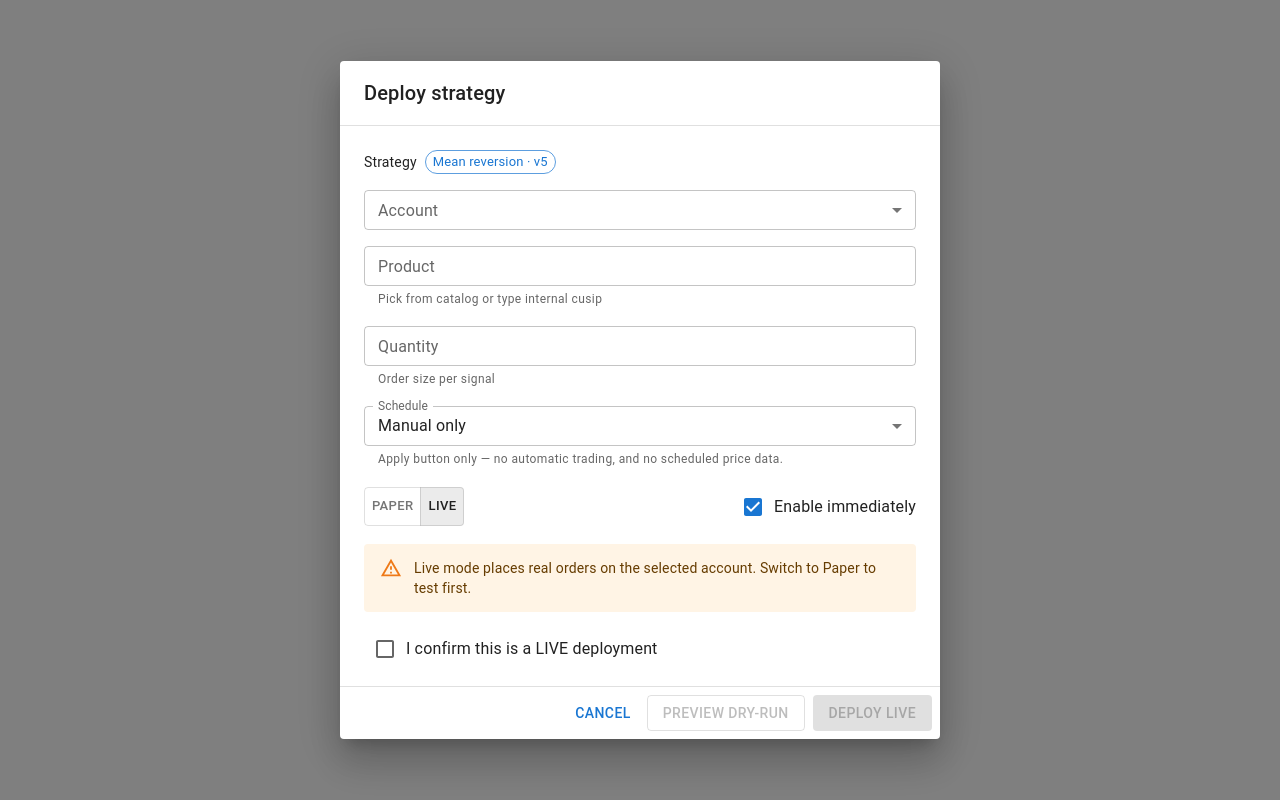
Test: DeploymentDialog schedule control › explains that a cadence also keeps price data up to date
Check: the text "no scheduled price data" is shown, box [378,452,783,466]
Click the dropdown named "Schedule" at (422, 426), box [378,416,466,435]
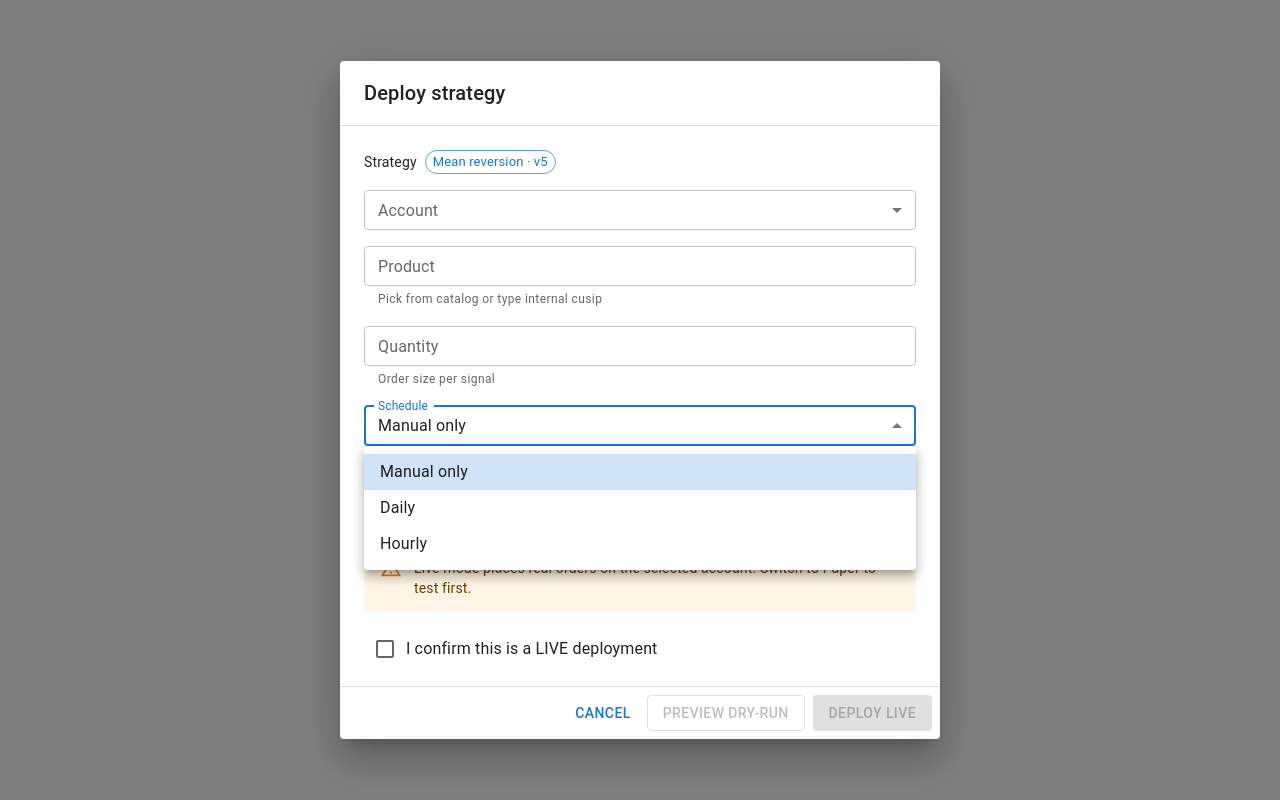
Click the option "Daily" at (398, 508), box [380,498,415,517]
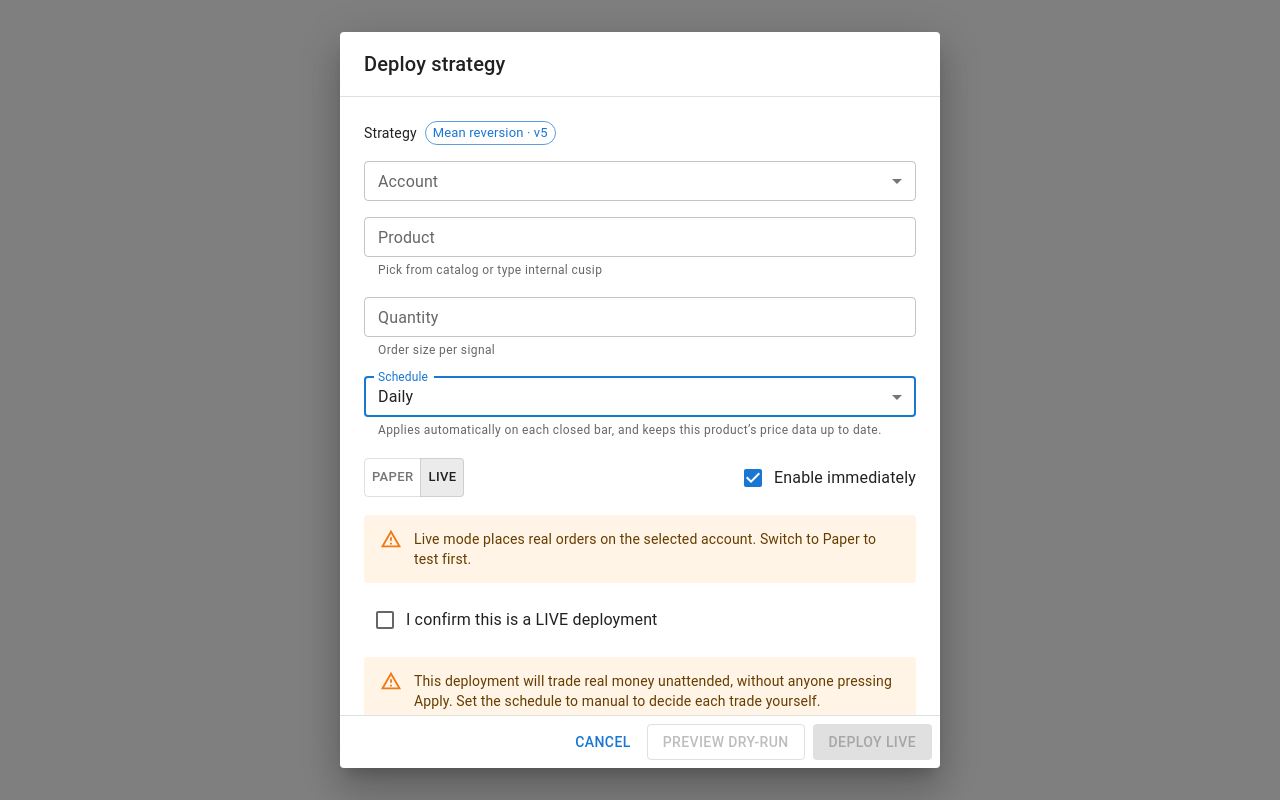
Check: the text "price data up to date" is shown, box [378,423,882,437]
